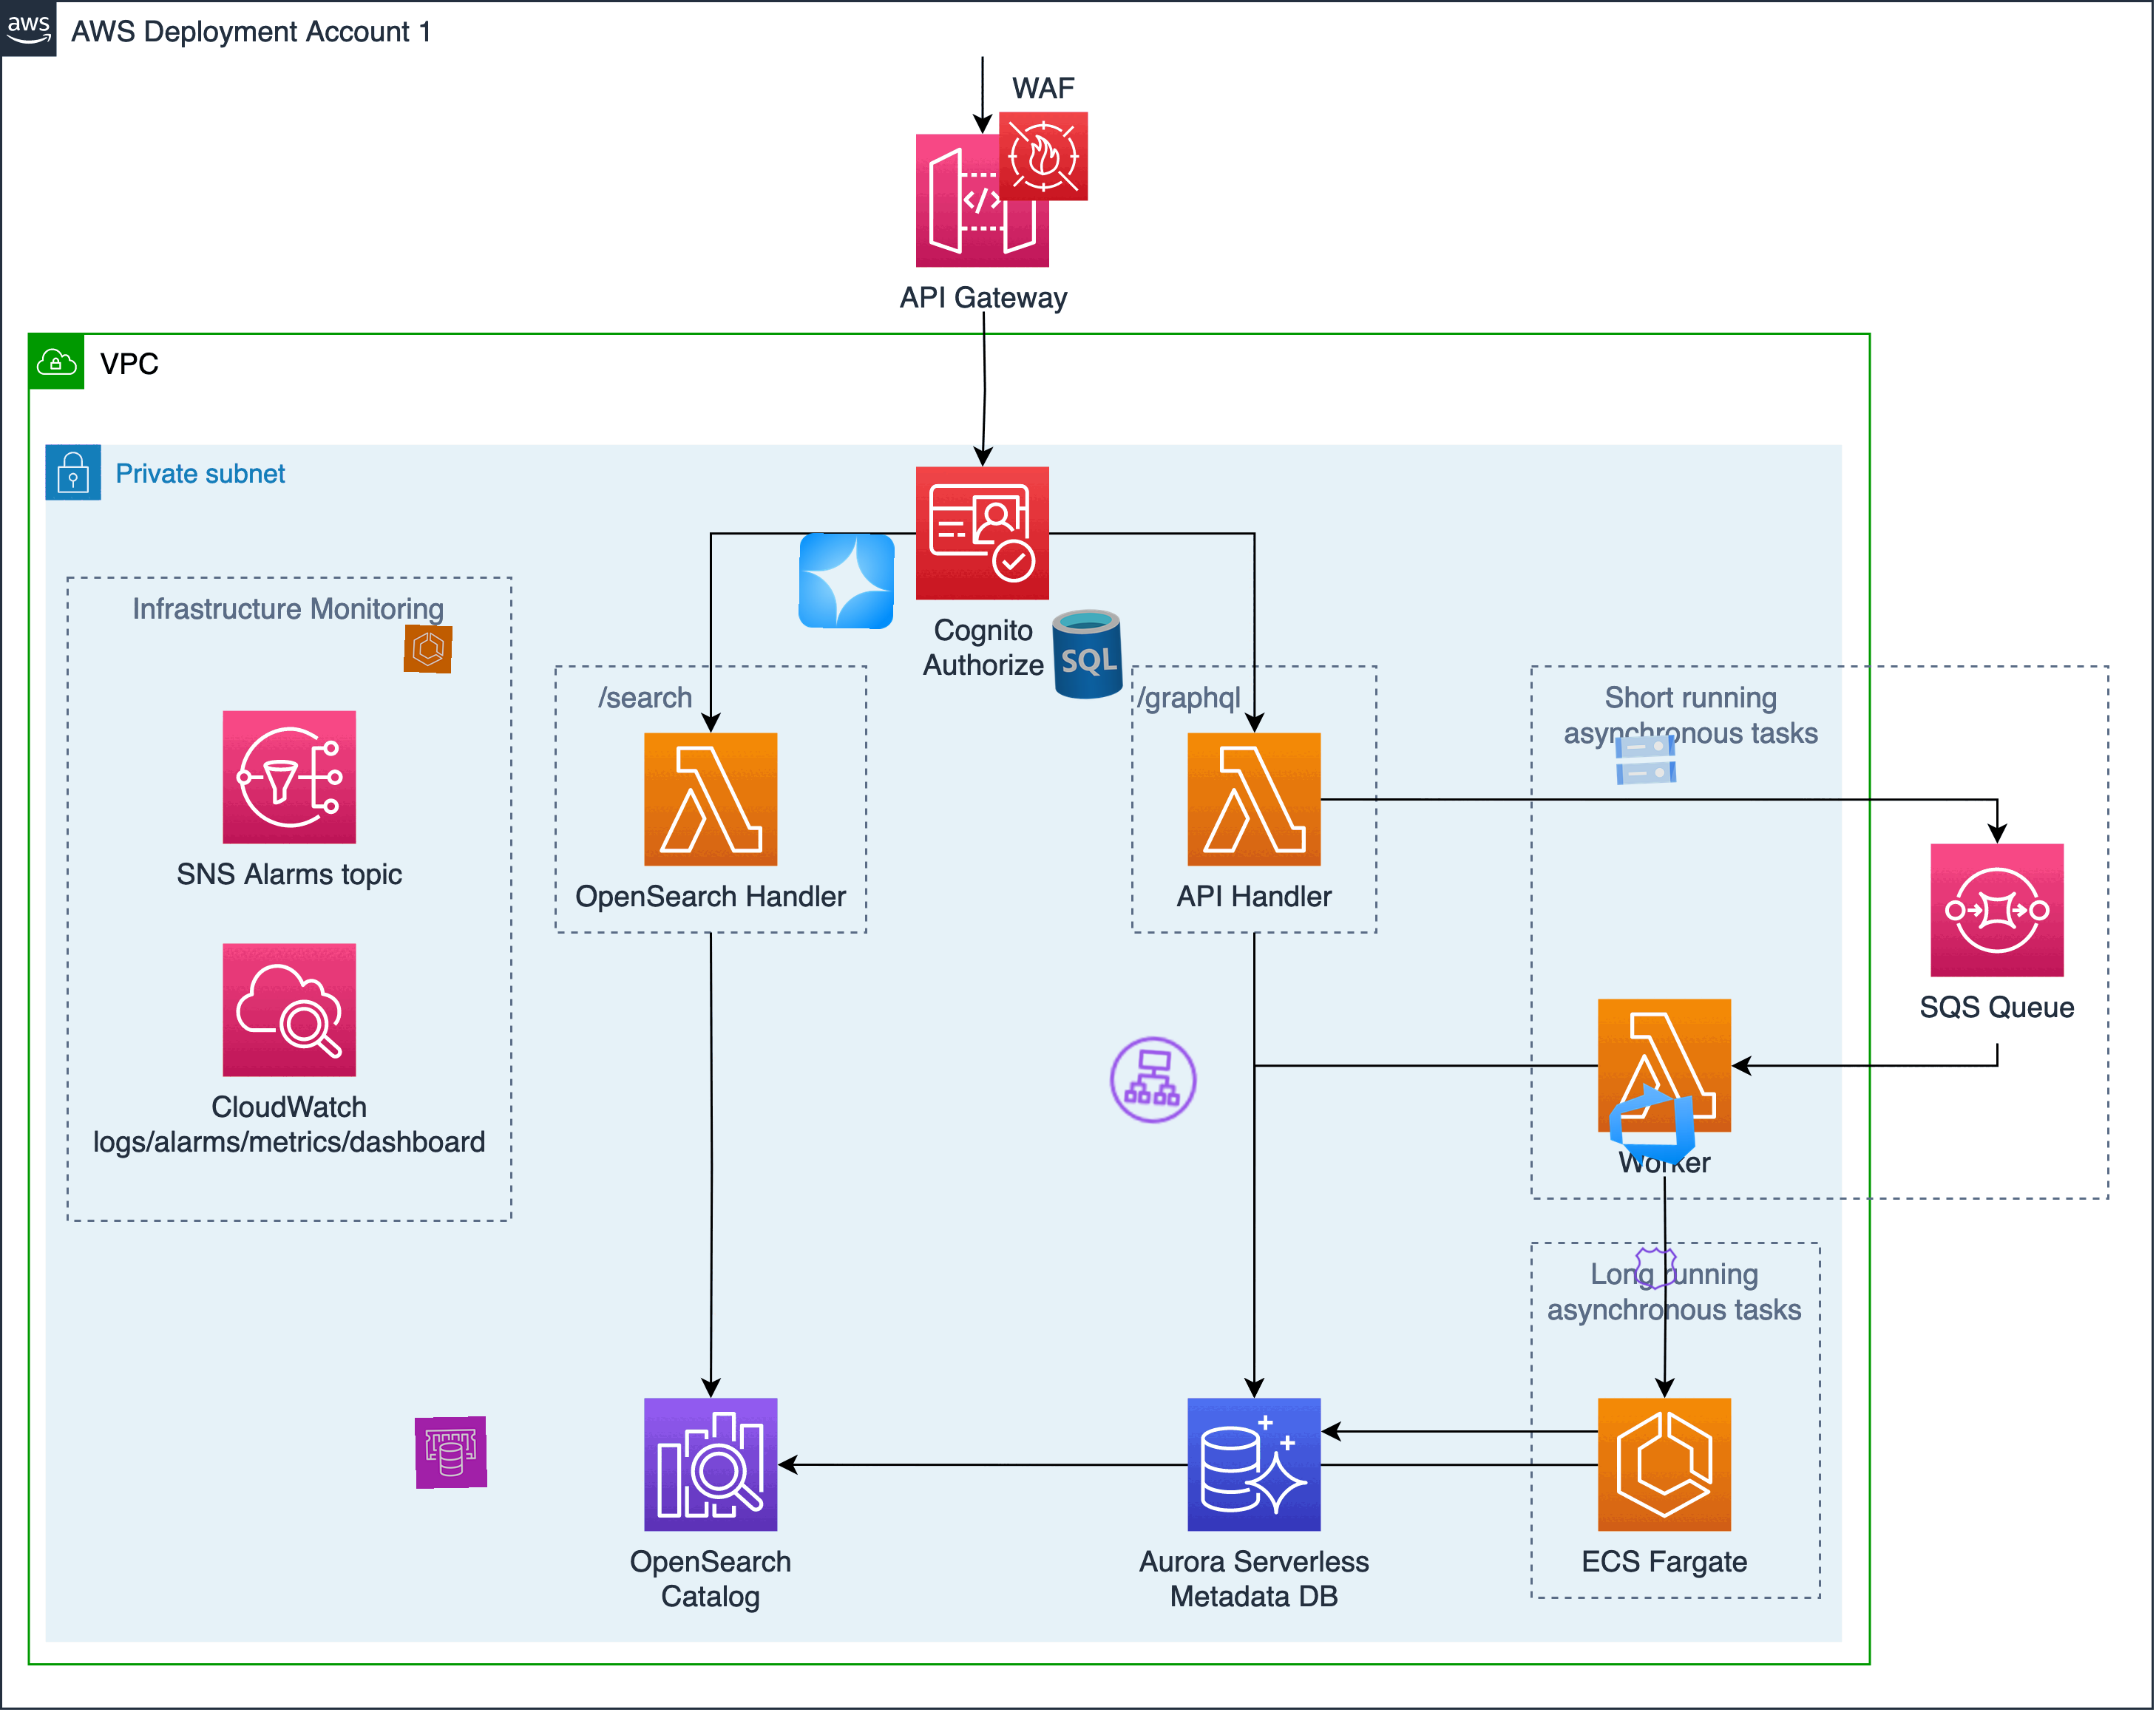aws_amazon_elastic_container_service: (403, 624, 453, 675)
aws_amazon_elasticache: (415, 1415, 488, 1490)
aws_elastic_load_balancing_application_load_balancer: (1102, 1028, 1204, 1131)
aws_route_53_hosted_zone: (1631, 1243, 1682, 1294)
azure_devops: (1601, 1074, 1703, 1175)
azure_openai: (798, 533, 894, 630)
azure_sql_database: (1038, 605, 1137, 703)
gcp_cloud_storage: (1608, 722, 1684, 797)
